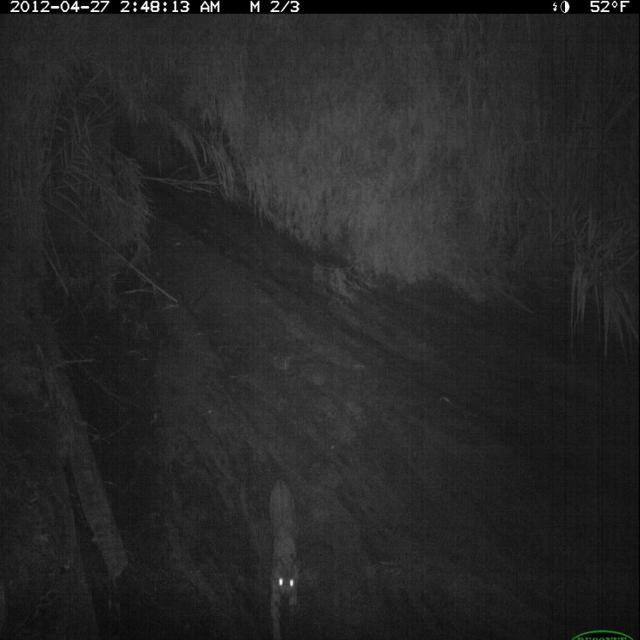bobcat: (268, 472, 308, 640)
